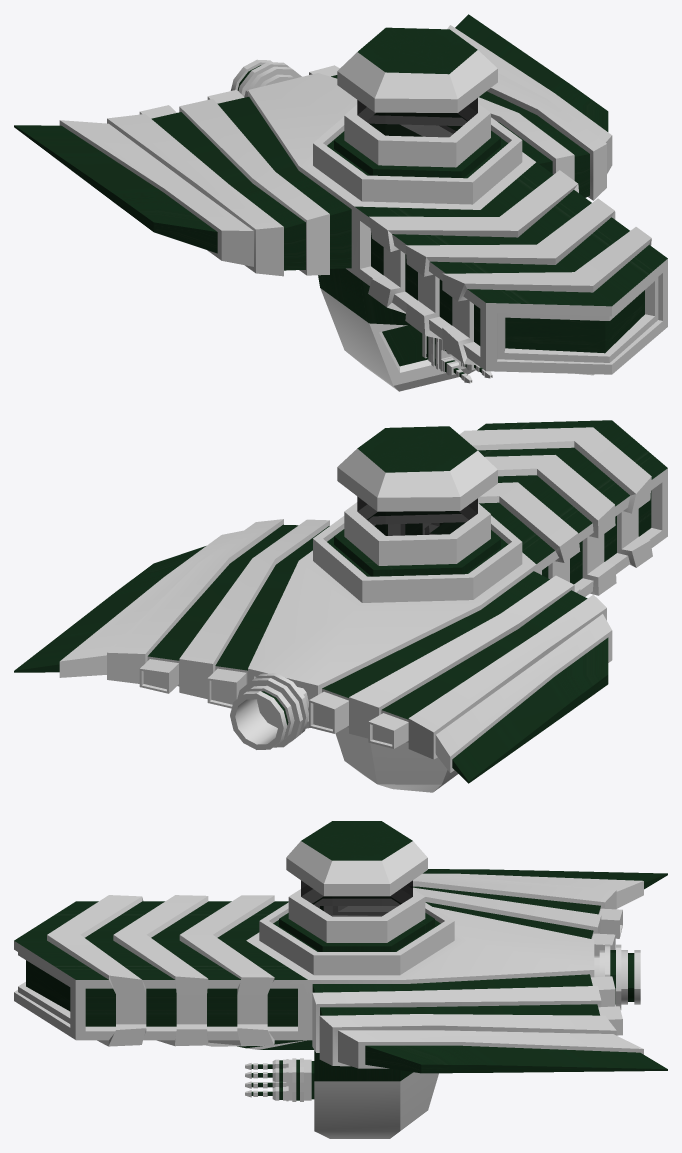
Rendered from DAC.fbx.
3 renders of one model, top to bottom at view 1: azimuth 30°, elevation 25°; view 2: azimuth 150°, elevation 25°; view 3: azimuth 270°, elevation 25°, orthographic. The views are drawn at different scales.
Visible parts, largest first — view 1: DAC; view 2: DAC; view 3: DAC.
Boxes of the visible parts, <box> form: DAC: <box>14,14,667,391</box>; DAC: <box>14,420,667,792</box>; DAC: <box>14,821,667,1138</box>.
Size of the model in its own units: 6.01 by 4.06 by 8.49.
